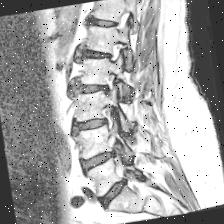disc: (71, 38, 124, 72), (82, 8, 128, 38), (70, 110, 115, 140)
hdisc: (92, 175, 140, 213), (68, 74, 119, 106), (76, 144, 127, 175)
